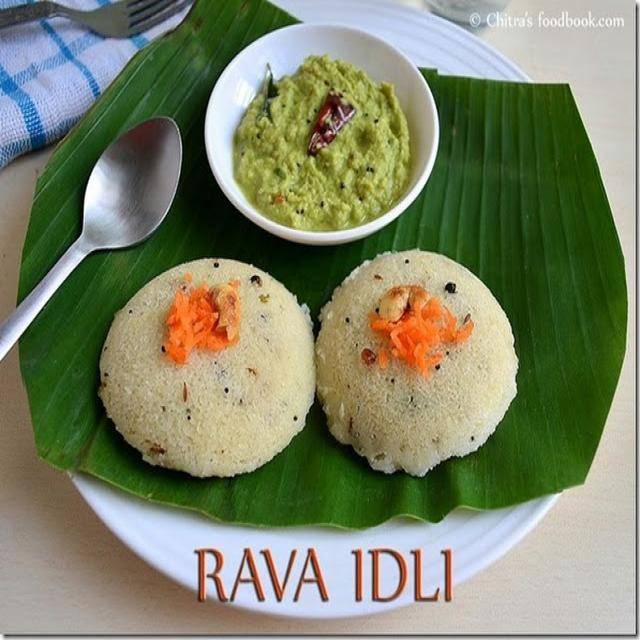rave idli: (92, 246, 314, 492), (313, 244, 532, 489)
